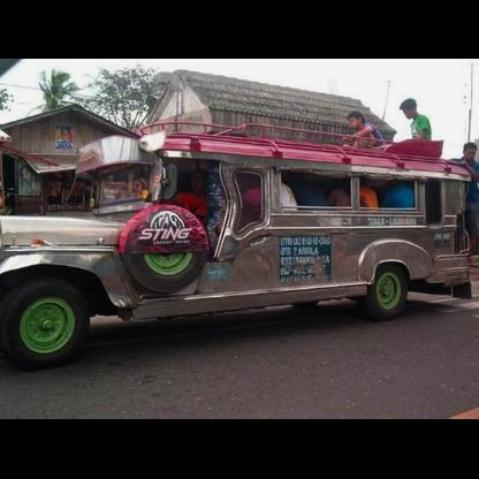jeepney: (0, 115, 479, 365)
